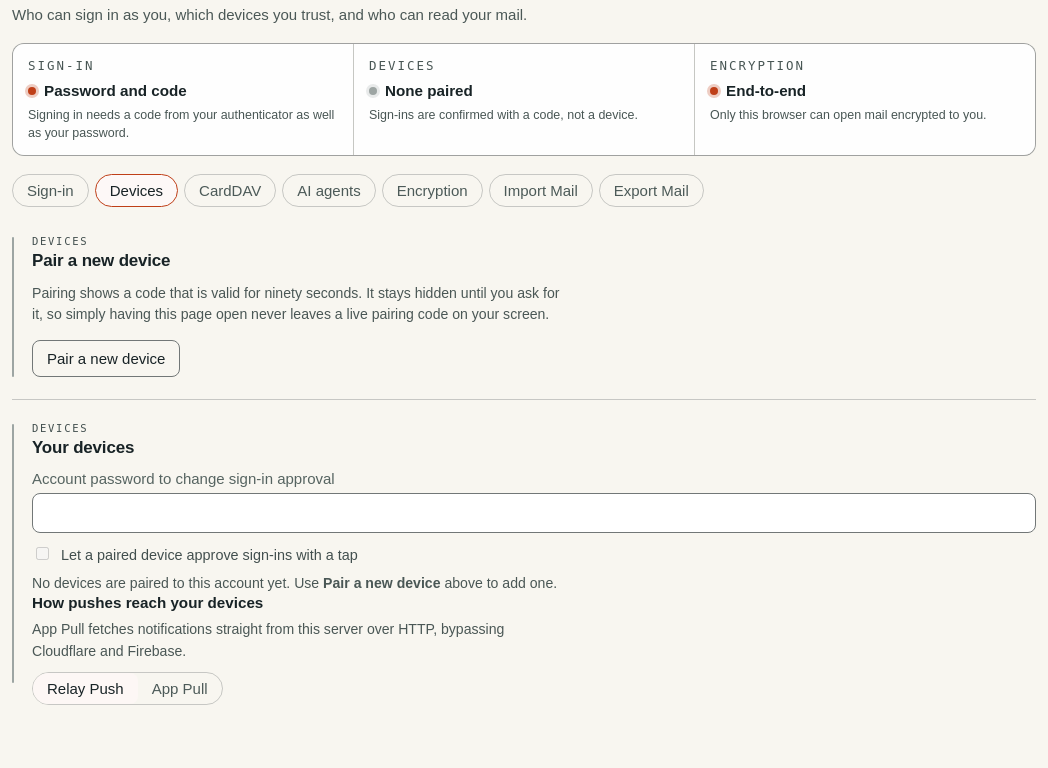
no two page-level status regions at once › shows one message region, from either tab
Step 1. Click the button "App Pull" → (180, 688), box [138,673,222,704]
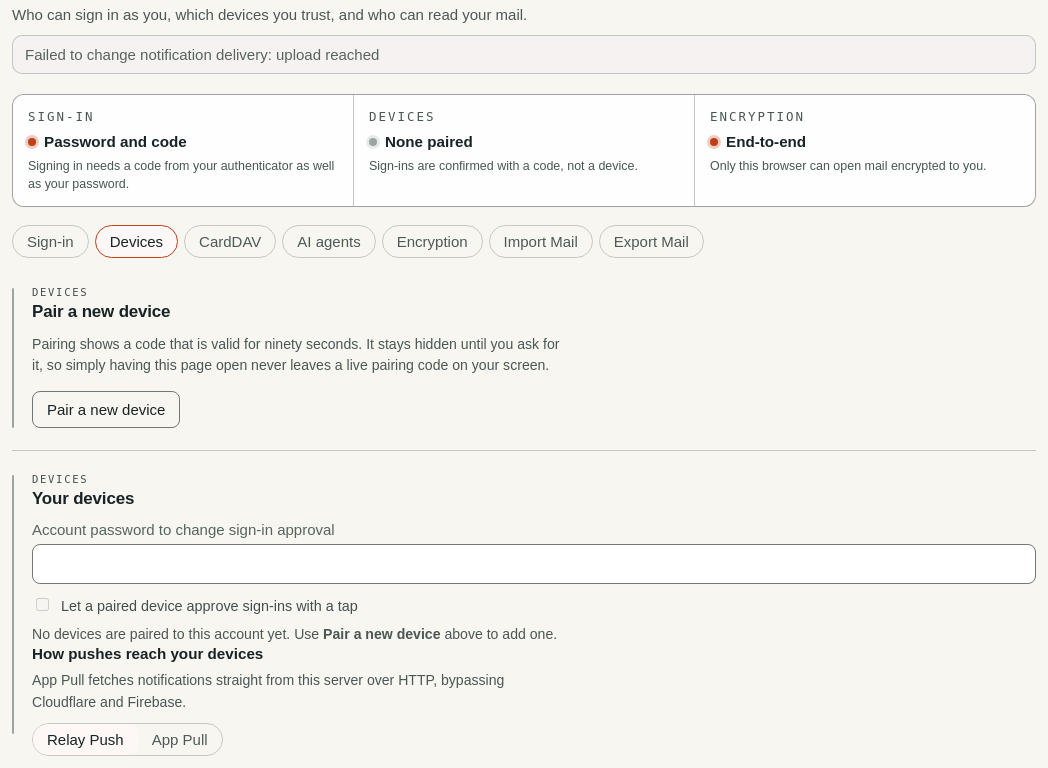
Result: the number of elements with class "notice" is 1 at [12,35,1036,74]
